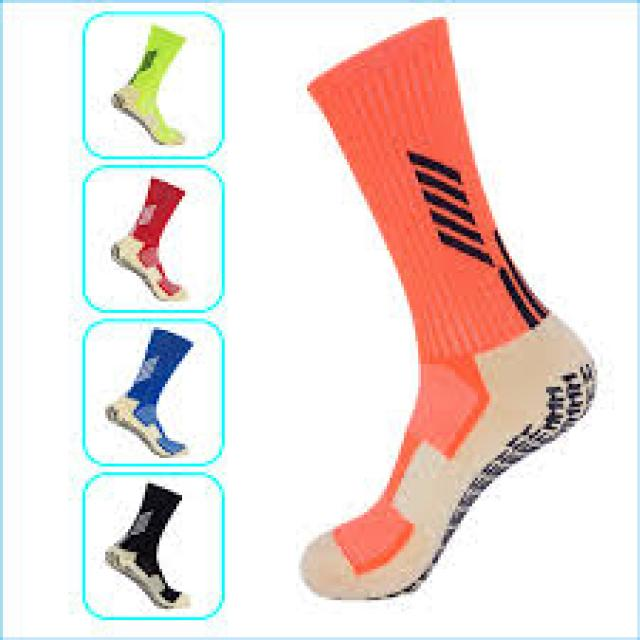sock: (296, 14, 597, 600)
